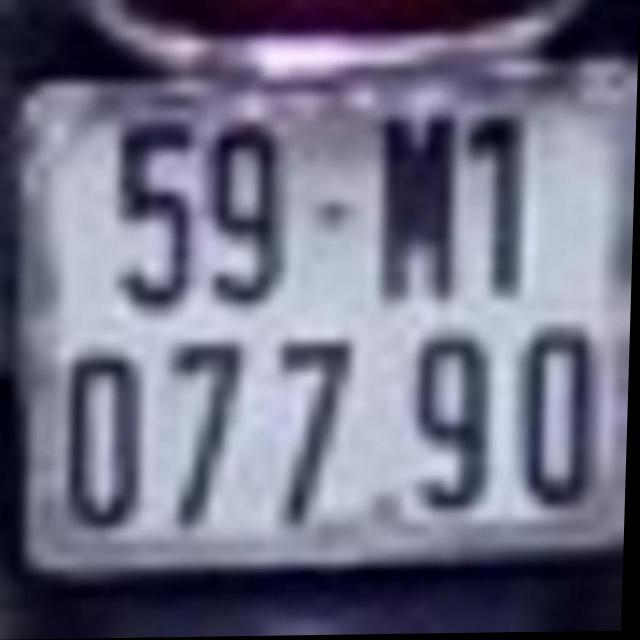0: (57, 343, 150, 528), (521, 316, 598, 510)
1: (470, 113, 529, 302)
5: (105, 116, 200, 307)
7: (267, 324, 355, 528), (167, 335, 248, 531)
9: (200, 119, 289, 302), (413, 324, 495, 515)
M: (373, 108, 468, 309)
